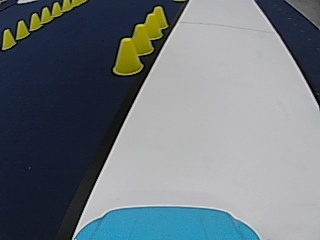cone: (111, 36, 142, 75), (128, 23, 153, 55), (141, 11, 162, 40), (150, 5, 168, 30), (1, 28, 15, 49), (15, 19, 29, 39), (29, 12, 41, 30), (39, 6, 51, 23), (51, 2, 61, 16)
